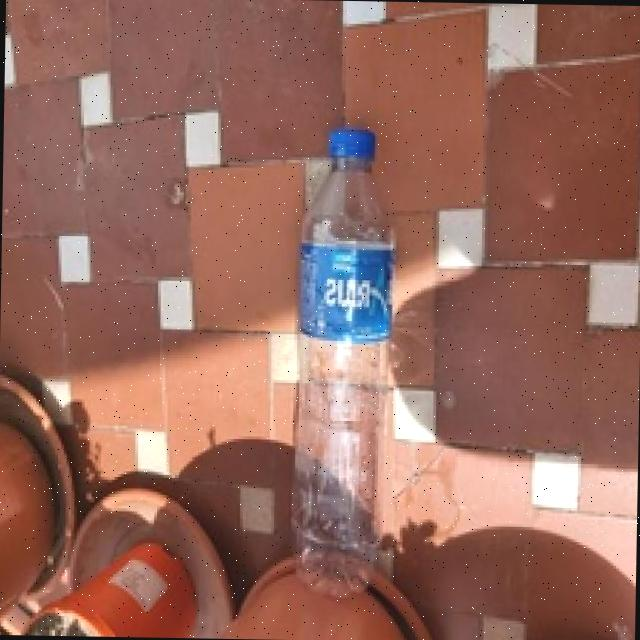bottle: (279, 117, 417, 610)
label: (280, 229, 412, 346)
